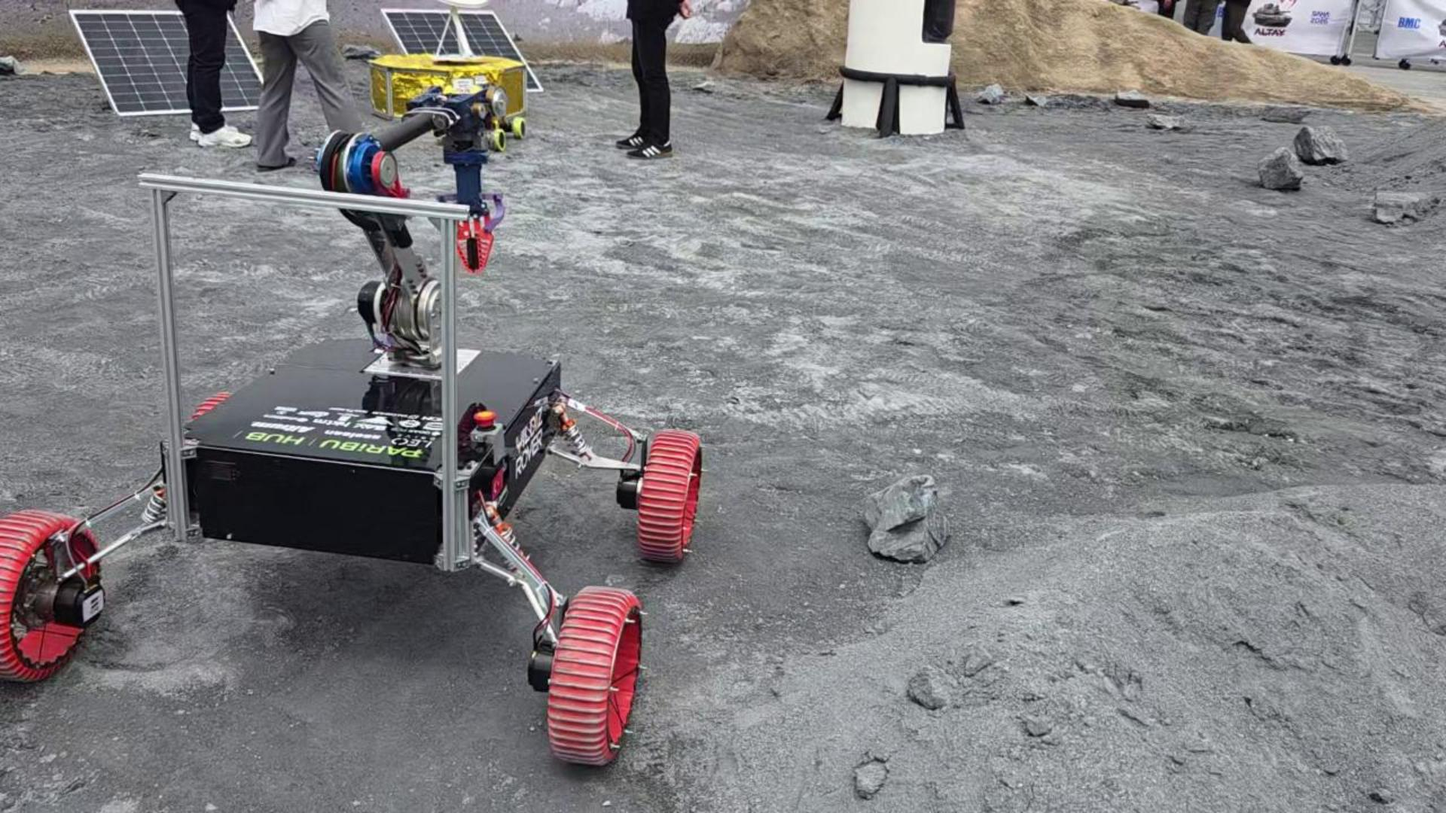rock: (868, 508, 949, 561), (864, 474, 937, 531), (1373, 191, 1439, 224), (1293, 125, 1347, 164), (1257, 147, 1303, 190), (1114, 90, 1150, 107), (342, 44, 381, 59), (975, 84, 1003, 104), (1146, 114, 1183, 129), (1025, 94, 1053, 107), (0, 55, 18, 75), (690, 80, 714, 94)
